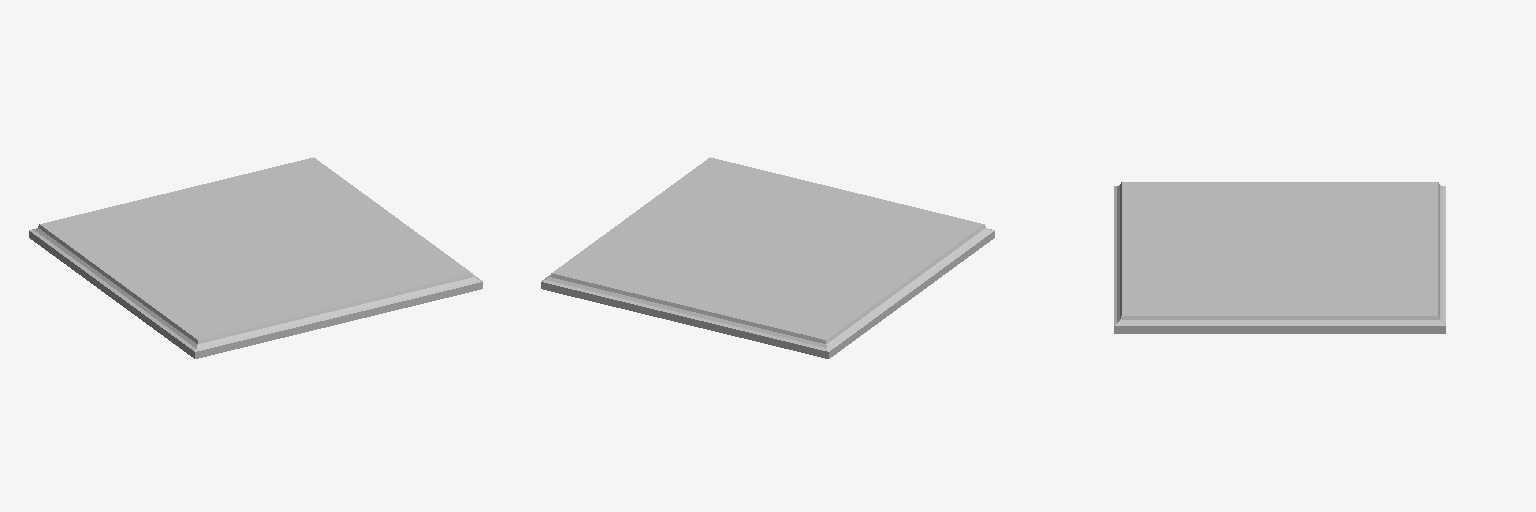
File: board.obj
3 renders of one model, left to right at view 1: azimuth 30°, elevation 25°; view 2: azimuth 150°, elevation 25°; view 3: azimuth 270°, elevation 25°, orthographic.
Parts seen in each view (by area): view 1: ChessBoard, Chessboard_Surround; view 2: ChessBoard, Chessboard_Surround; view 3: ChessBoard, Chessboard_Surround.
Part boxes in pixels (x1,y1,x2,y2): ChessBoard: (82,175,430,322); Chessboard_Surround: (29,157,482,358); ChessBoard: (593,175,941,322); Chessboard_Surround: (541,157,994,358); ChessBoard: (1152,195,1407,302); Chessboard_Surround: (1114,182,1445,333).
Size of the model in its own units: 62.4 by 3 by 62.4.